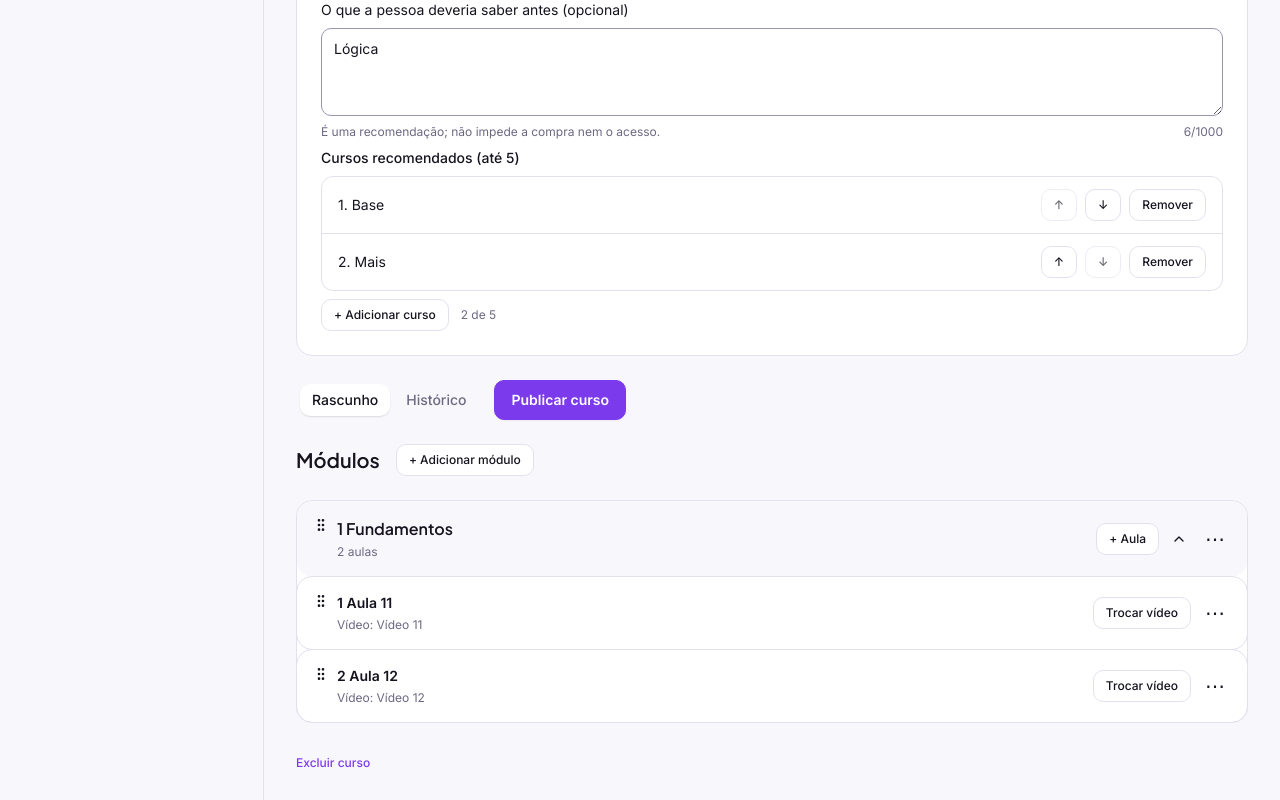
Test: authoring editor against Figma › describes the first publication with video lesson counts, level, prerequisite and note label
(page scrolled)
What coordinates should you click on to do the following:
click the button "Publicar curso"
I would click on:
 (560, 400)
Its box is x1=494 y1=380 x2=626 y2=420.
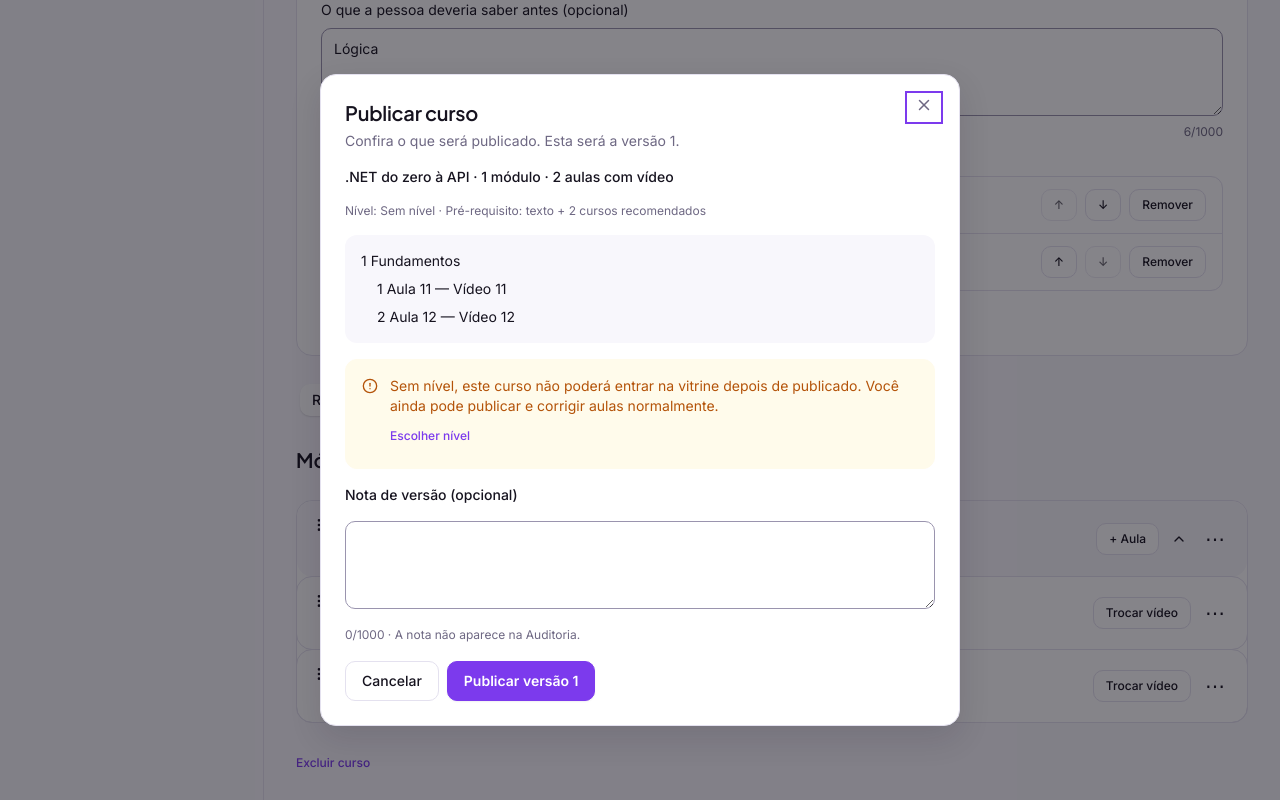
Now the heading "Publicar curso" is shown, box x1=345 y1=100 x2=478 y2=125
Now the dialog shows "Confira o que será publicado. Esta será a versão 1.", box x1=345 y1=132 x2=680 y2=149
Now the dialog shows "1 módulo · 2 aulas com vídeo", box x1=320 y1=74 x2=960 y2=726
